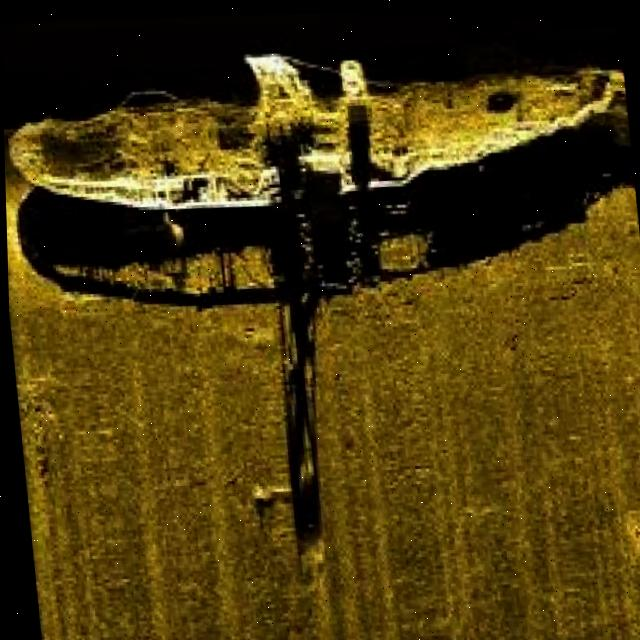shipwreck: (0, 10, 625, 249)
